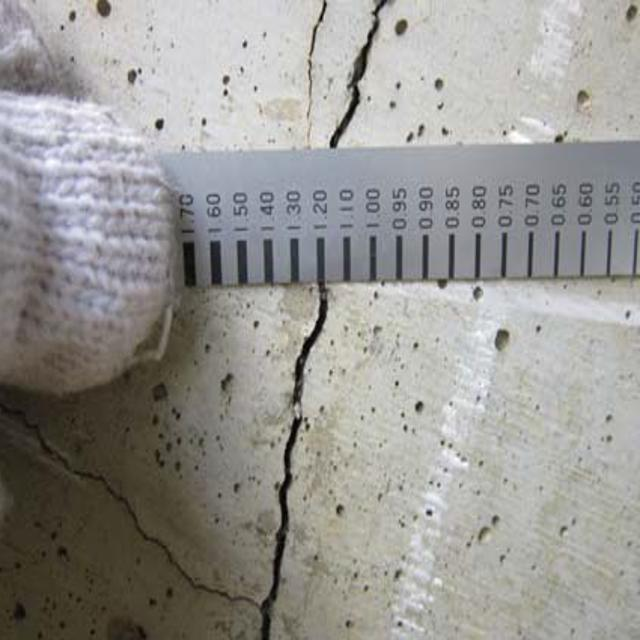crack: (7, 394, 234, 613), (257, 287, 346, 636), (297, 3, 407, 163)
